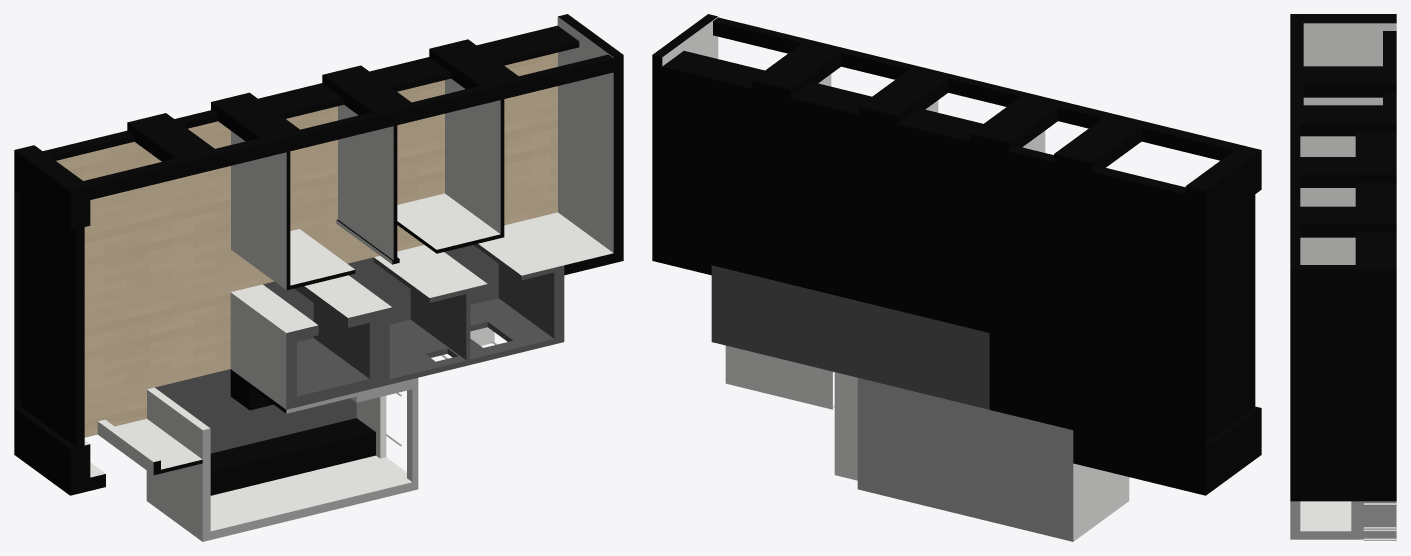
File: GreenQuartz_BTO.obj
3 views of the same model, side by side, from view 1: azimuth 30°, elevation 25°; view 2: azimuth 150°, elevation 25°; view 3: azimuth 270°, elevation 25° (orthographic). The views are drawn at different scales.
Parts seen in each view (by area): view 1: Main Floor, Kitchen, Bathrooms, HouseHold Shelter; view 2: Main Floor, Kitchen, Bathrooms, HouseHold Shelter, Air-Con Ledge, Service Yard Ledge; view 3: Main Floor, Kitchen, Bathrooms, Air-Con Ledge, Service Yard Ledge.
Boxes of the visible parts, x1=… form: Main Floor: x1=14, y1=14, x2=623, y2=495; Kitchen: x1=146, y1=369, x2=418, y2=541; Bathrooms: x1=346, y1=224, x2=564, y2=384; HouseHold Shelter: x1=230, y1=276, x2=389, y2=409; Main Floor: x1=652, y1=14, x2=1261, y2=495; Kitchen: x1=857, y1=378, x2=1129, y2=541; Bathrooms: x1=711, y1=265, x2=886, y2=384; HouseHold Shelter: x1=886, y1=308, x2=989, y2=409; Air-Con Ledge: x1=725, y1=345, x2=834, y2=409; Service Yard Ledge: x1=834, y1=372, x2=857, y2=480; Main Floor: x1=1290, y1=14, x2=1396, y2=465; Kitchen: x1=1290, y1=501, x2=1396, y2=539; Bathrooms: x1=1290, y1=465, x2=1396, y2=501; Air-Con Ledge: x1=1363, y1=501, x2=1396, y2=530; Service Yard Ledge: x1=1363, y1=529, x2=1396, y2=541.
Size of the model in its own units: 1489 by 987 by 261.
Materials: 8 (1 with a texture image).
